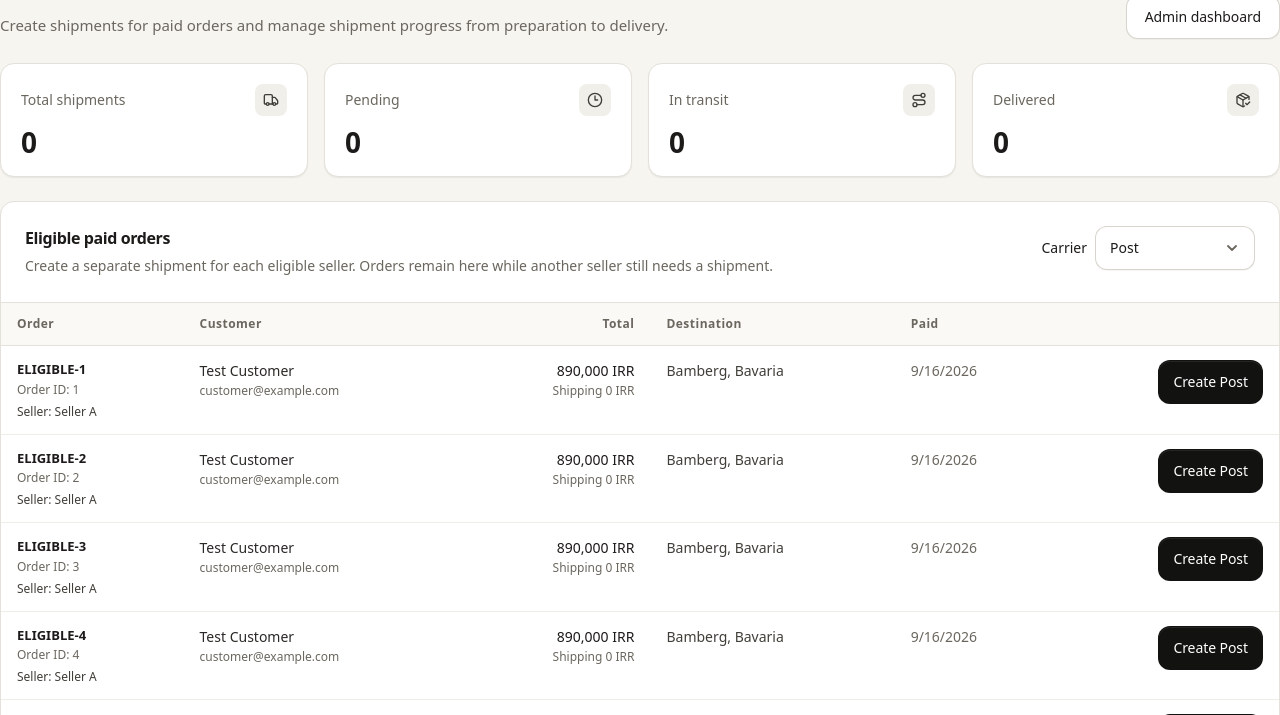
Scenario: AdminShipmentsList › browses all 21 eligible orders without reloading shipment history and retains the carrier
expect the text "ELIGIBLE-21" is not shown: met
Select "DHL" in the dropdown labelled "Carrier": (1175, 248) [1095,226,1255,270]
(page scrolled)
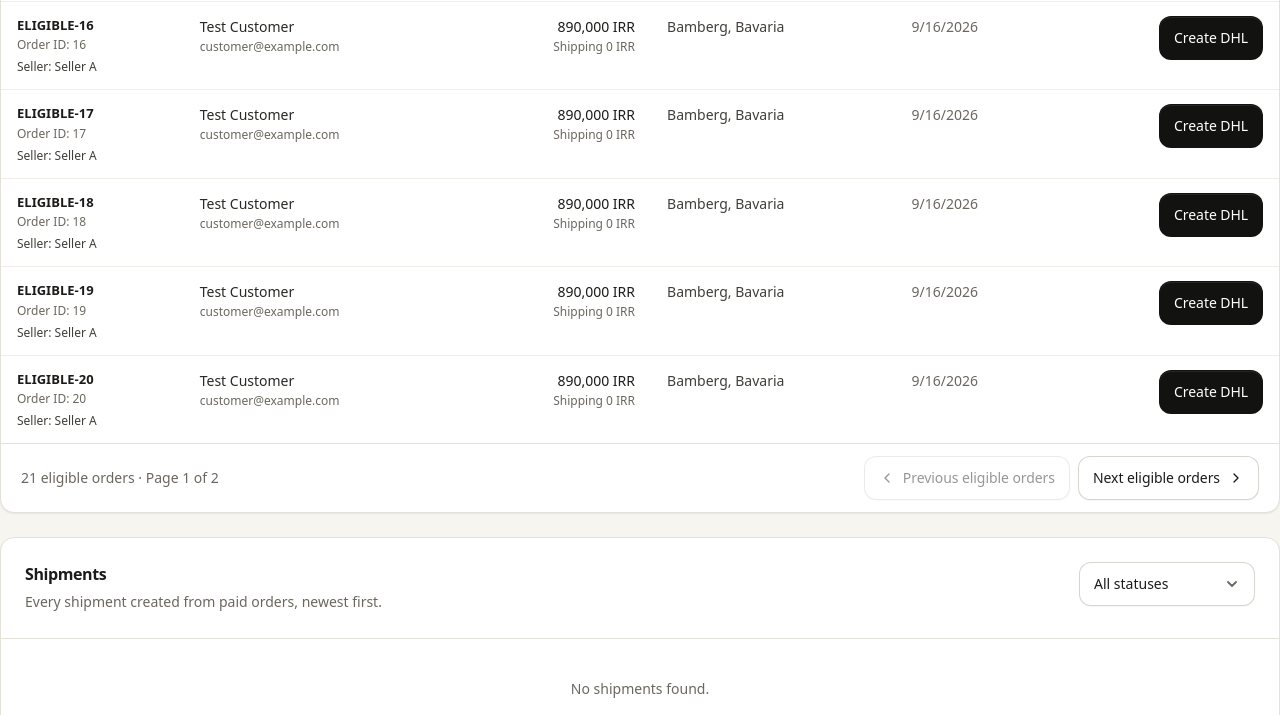
Click the button "Next eligible orders": (1168, 478) [1078,456,1259,500]
(page scrolled)
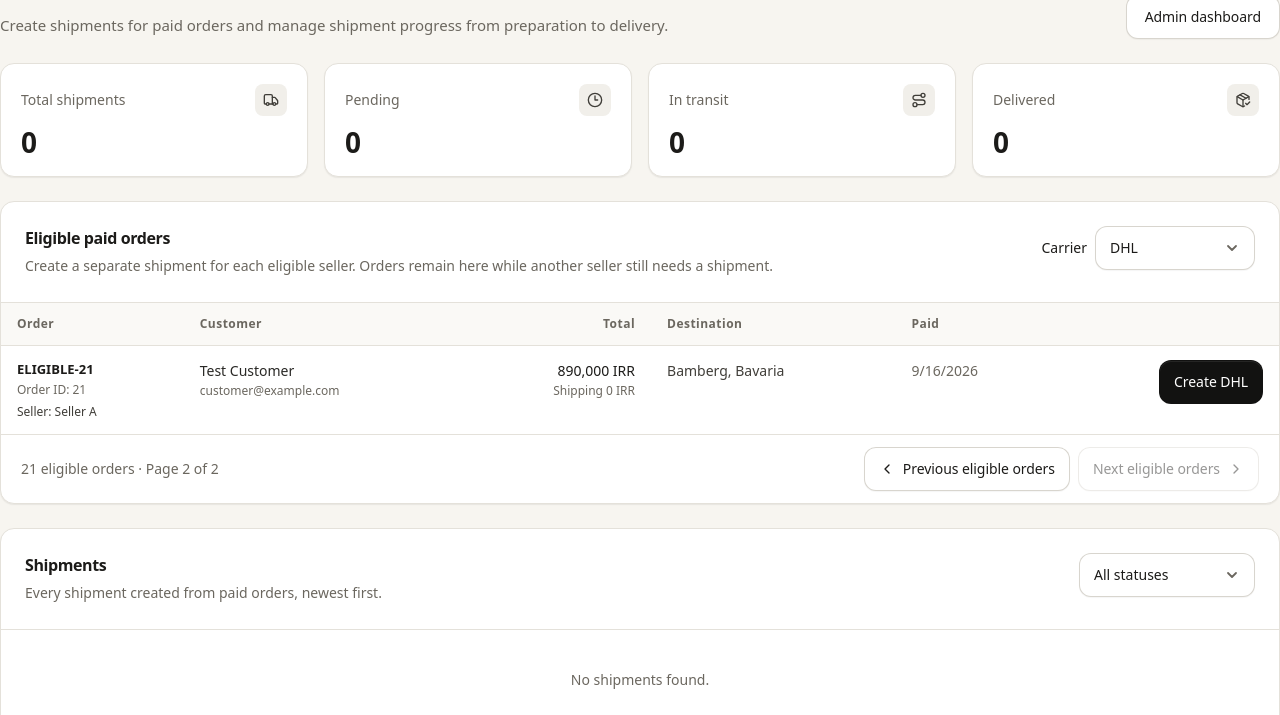
expect the text "ELIGIBLE-21" is shown: met, box [17,360,94,378]
expect the button "Next eligible orders" is disabled: met, box [1078,447,1259,491]
